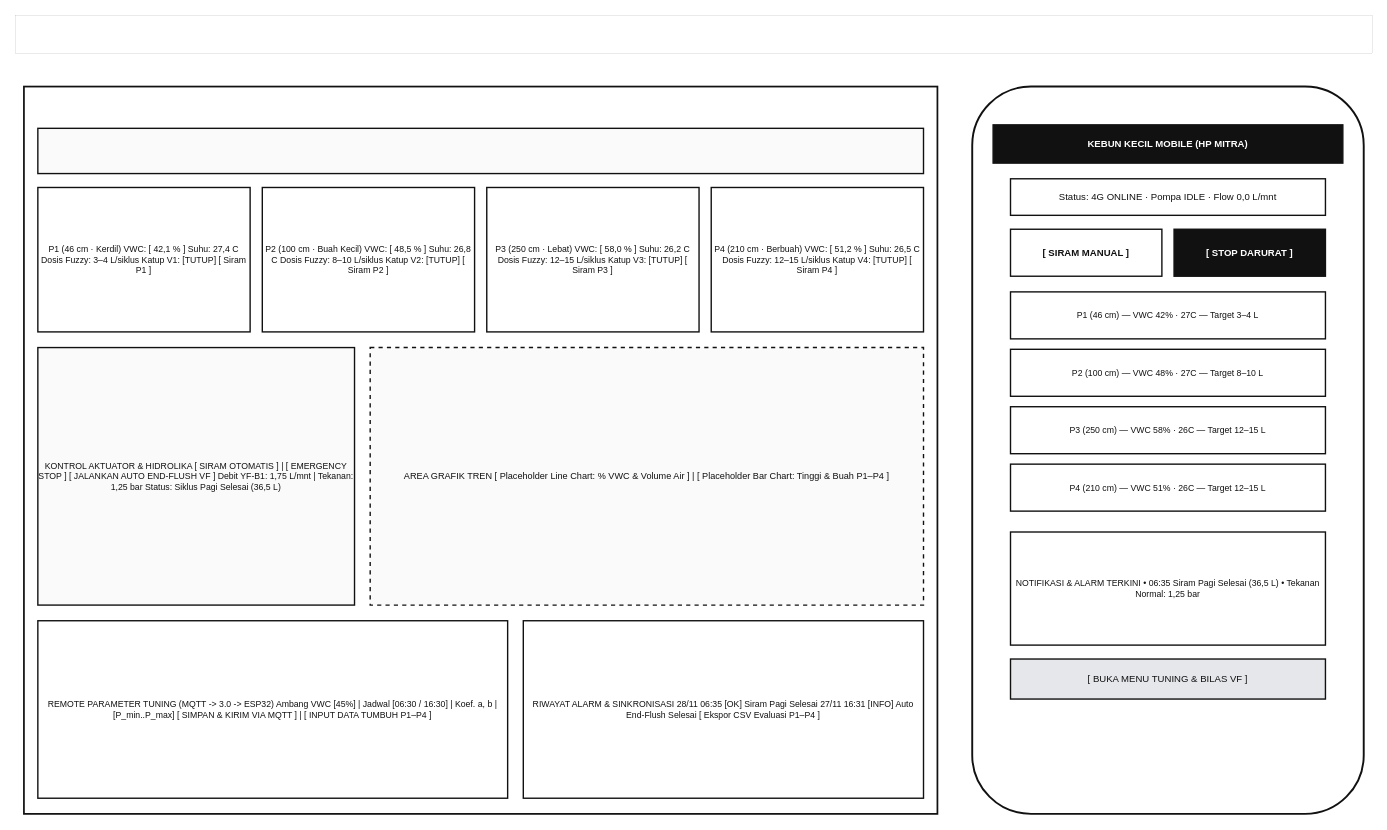
The diagram is 1387 pixels wide and 830 high, and some of its shapes have lost their labels. Each missing label, with the box of its shape:
PANEL KEBUN KECIL — ZONA UJI 1 | [4G ONLINE] [MQTT OK] [RTC 06:30] [Pompa IDLE]: (37, 127, 924, 174)
SKETSA WIREFRAME ANTARMUKA PENGGUNA (DASHBOARD WEB & HP) — KEBUN KECIL: (15, 15, 1372, 53)
